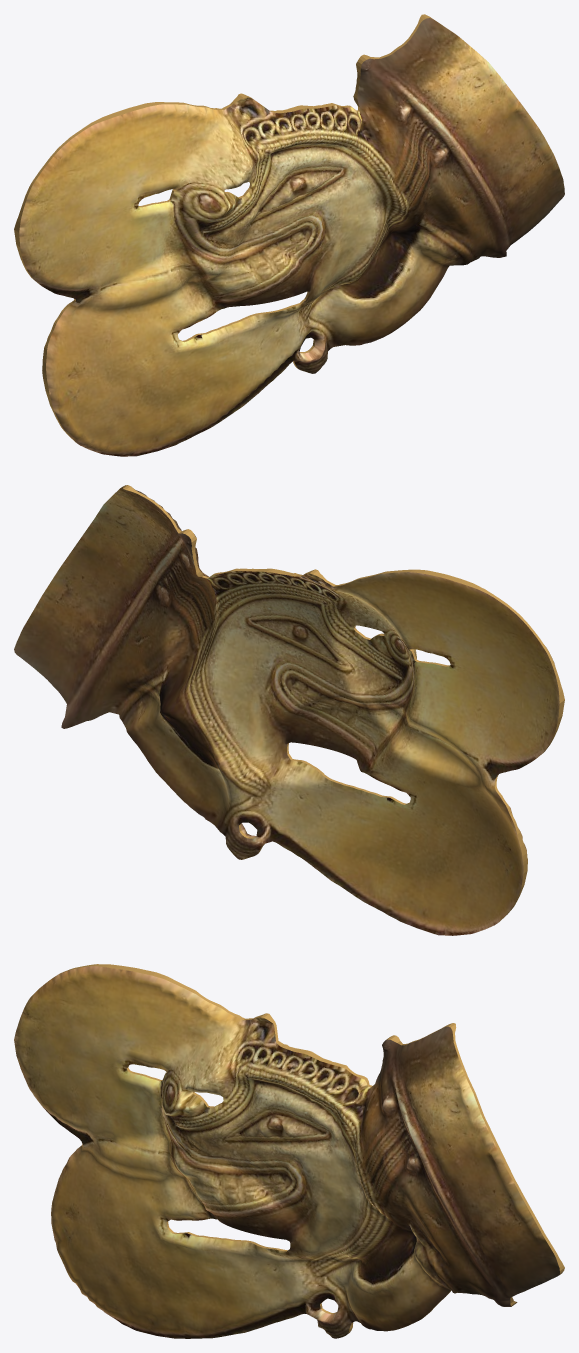
The model's file is s3-05_labret_1974.glb.
3 renders of one model, top to bottom at view 1: azimuth 30°, elevation 25°; view 2: azimuth 150°, elevation 25°; view 3: azimuth 330°, elevation 25°, orthographic. The views are drawn at different scales.
Parts seen in each view (by area): view 1: s3-05_labret_1974; view 2: s3-05_labret_1974; view 3: s3-05_labret_1974.
Boxes of the visible parts, x1,y1,x2,y2 form: s3-05_labret_1974: (14,14,564,456); s3-05_labret_1974: (14,485,564,935); s3-05_labret_1974: (14,964,564,1338).
Size of the model in its own units: 5.43 by 3.5 by 0.6857.
1 material, 1 textured.
